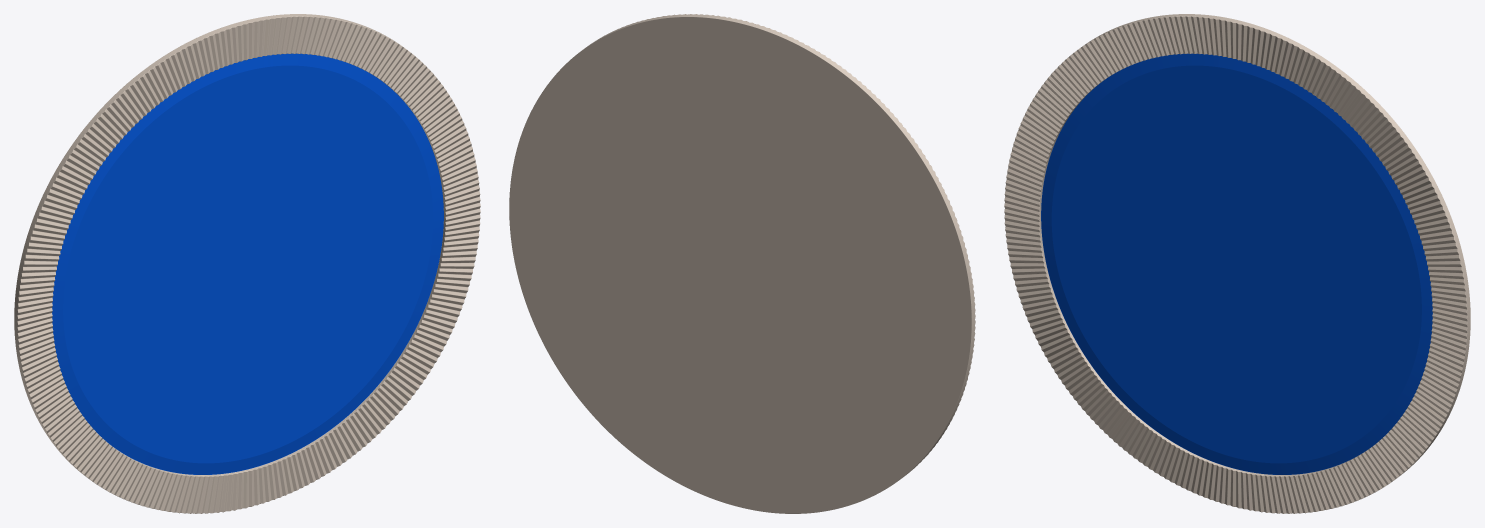
File: Ring-M.glb
3 renders of one model, left to right at view 1: azimuth 30°, elevation 25°; view 2: azimuth 150°, elevation 25°; view 3: azimuth 330°, elevation 25°, orthographic.
Visible parts, largest first — view 1: RING; view 2: RING; view 3: RING.
Boxes of the visible parts, <box> form: RING: <box>14,14,480,513</box>; RING: <box>509,14,975,513</box>; RING: <box>1004,14,1470,513</box>.
Bounding box in the file's own units: 2 × 2 × 0.0299.
